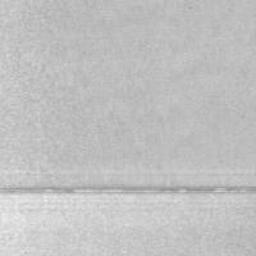Welding line: (0, 184, 256, 195)
